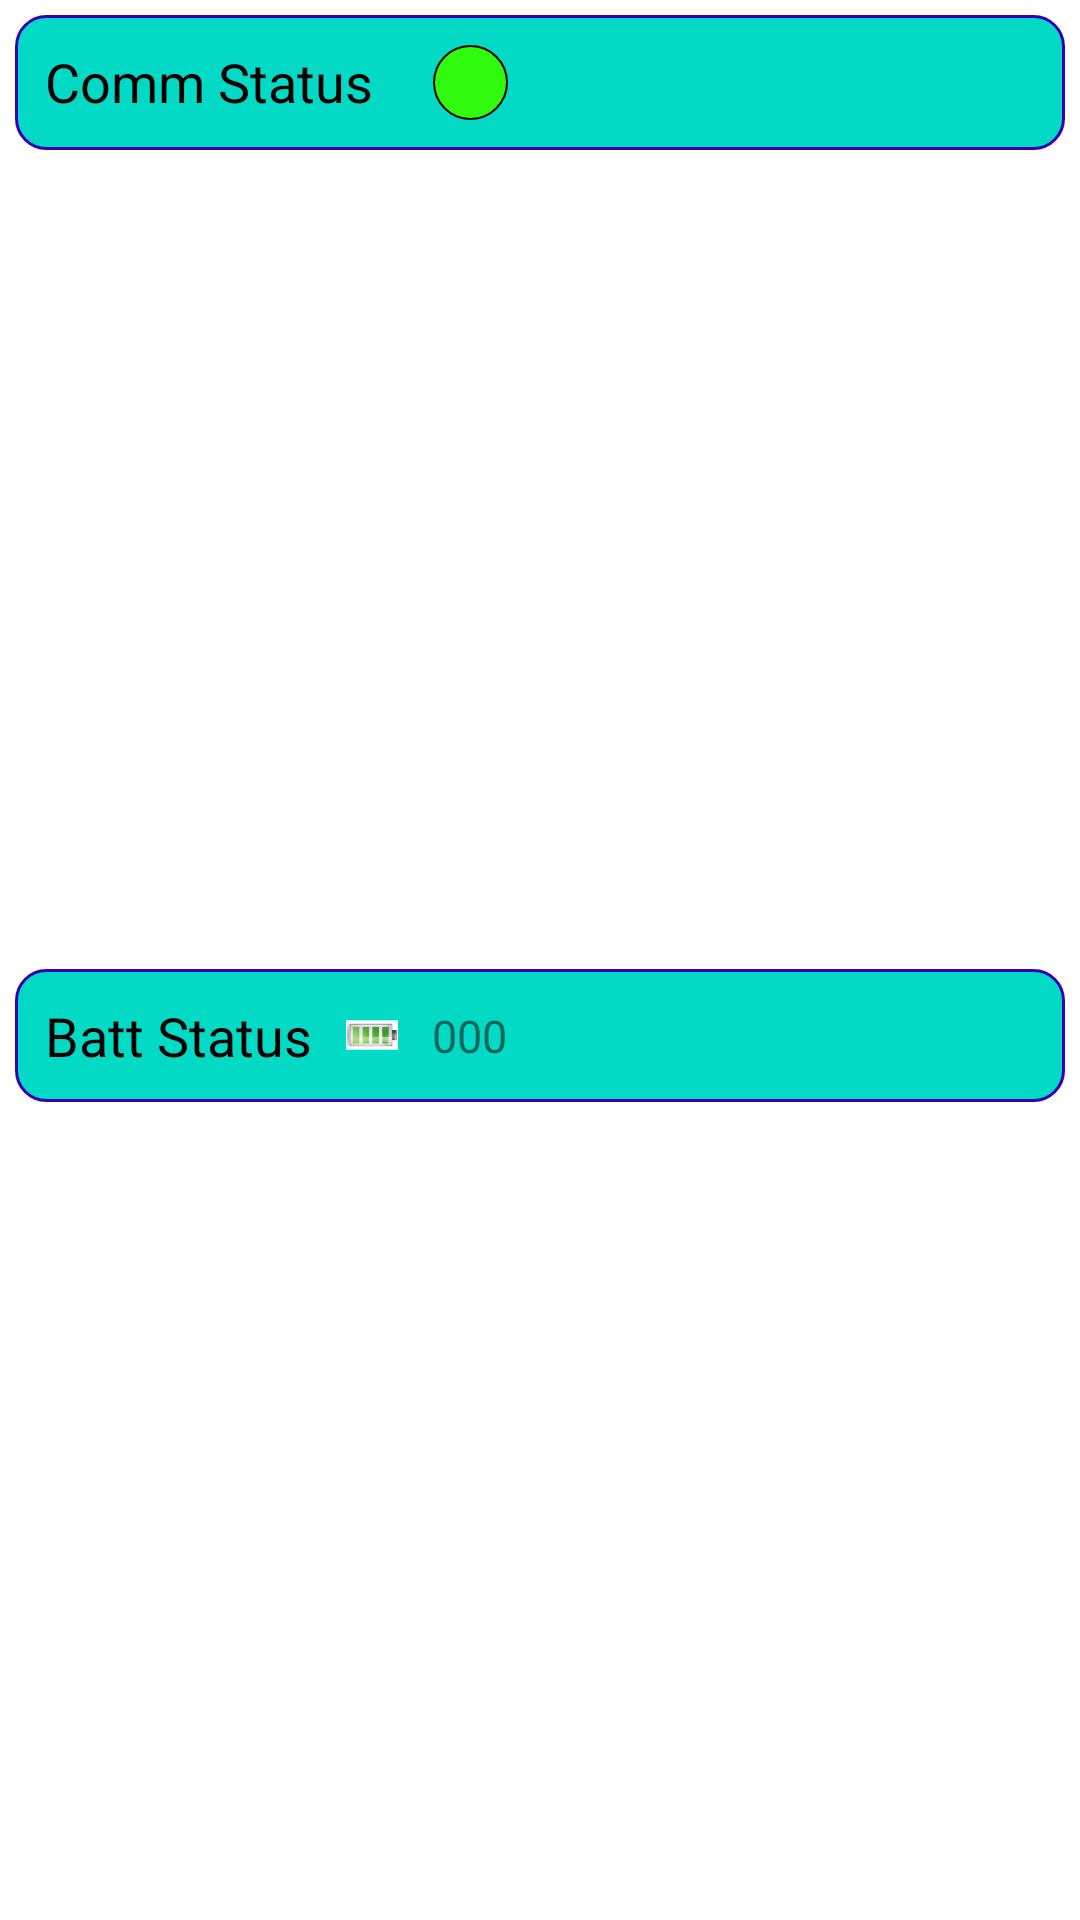

Screen size 1080px x 1920px. Icon name, then its box in pixels as (x1=x1, y1=y1, x2=x2, y2=y2):
twin trac battery capa: (x1=346, y1=1020, x2=398, y2=1050)
